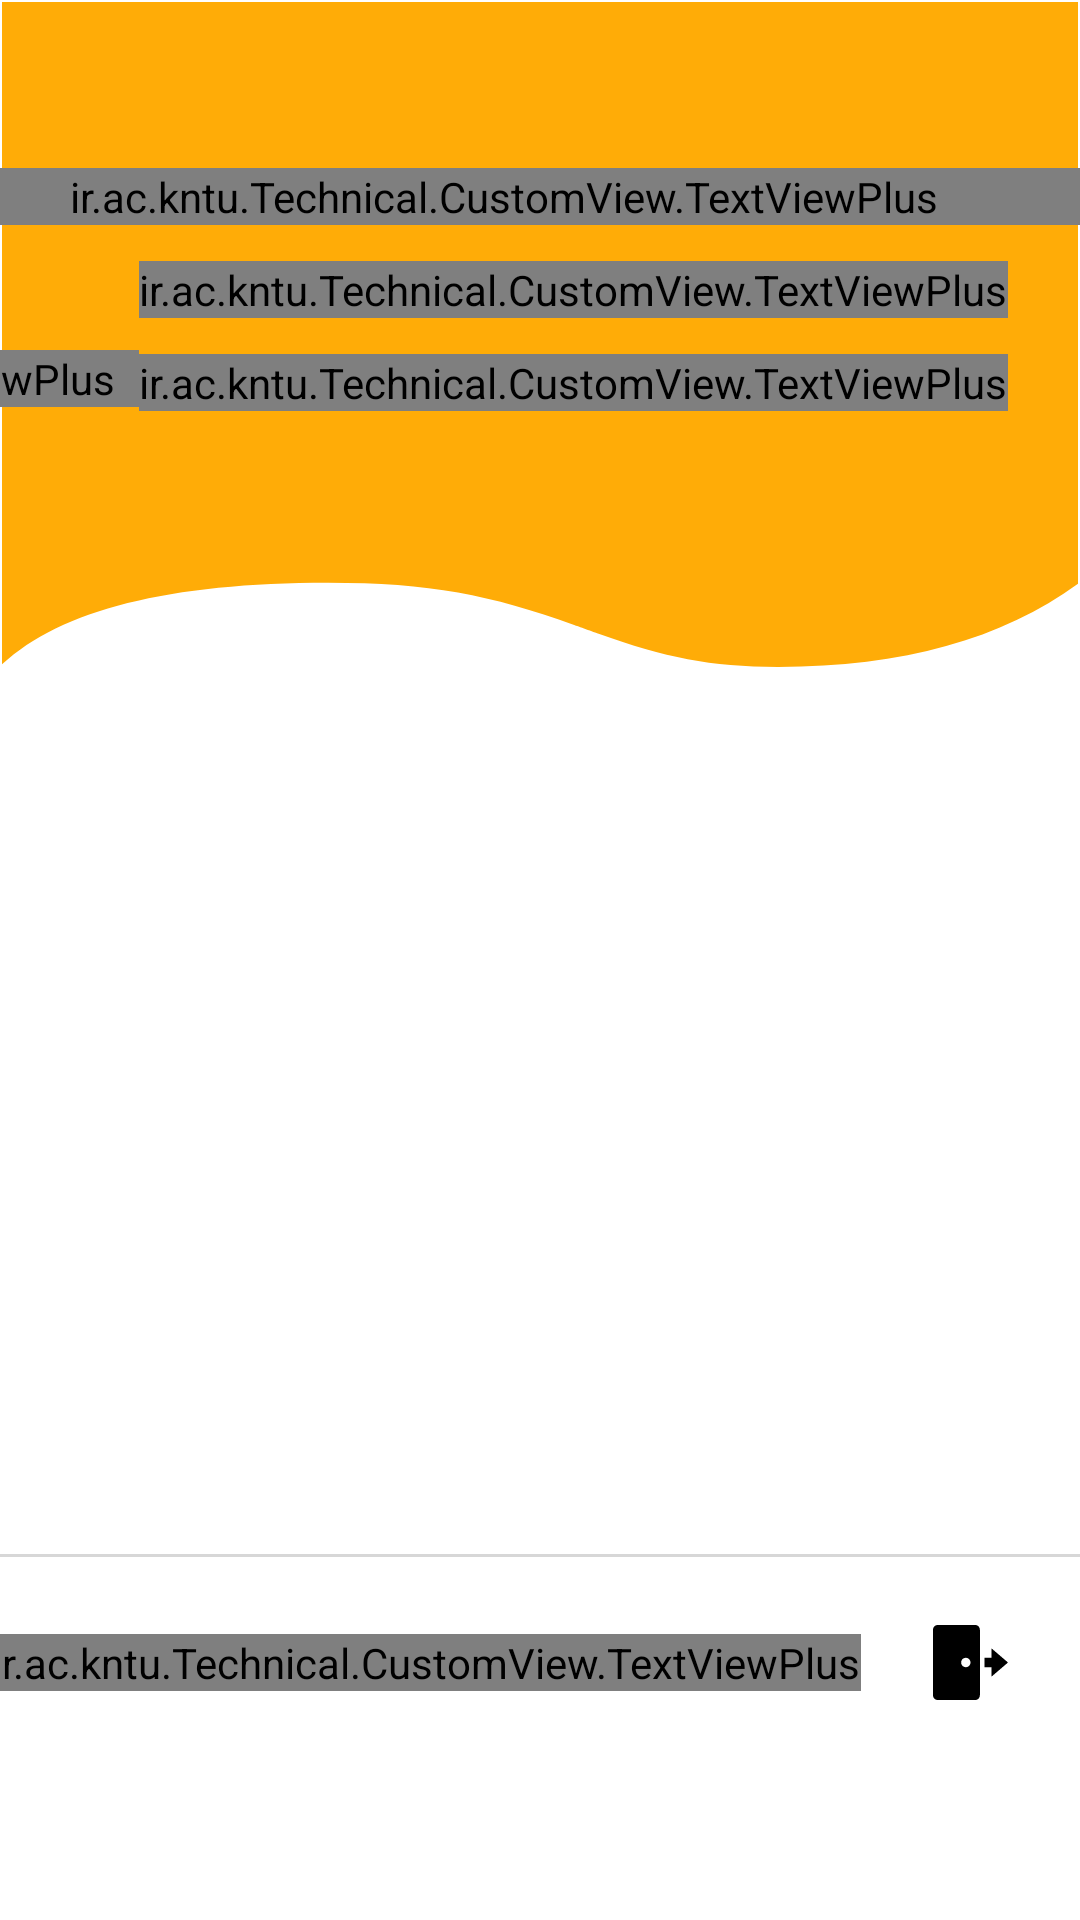

Screen size 1080*1920. Icon name, then its center in pixels as point (x, y):
log out: point (970, 1662)
